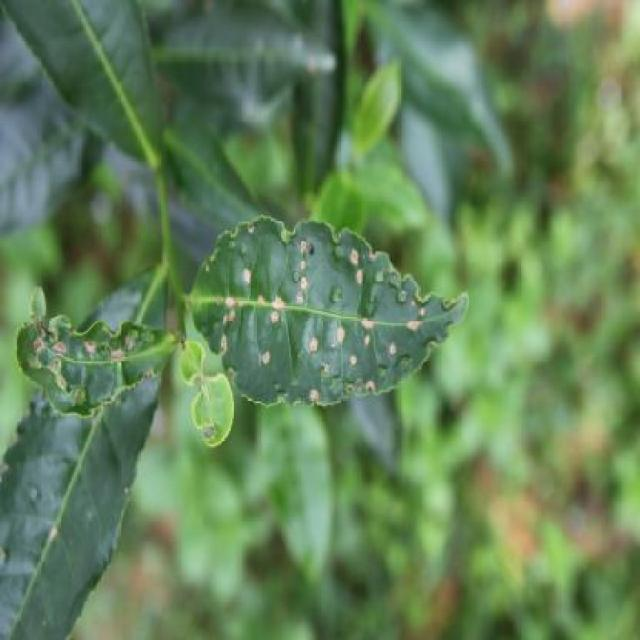Tea Mosquito bug infested leaf: (191, 212, 455, 403), (12, 298, 176, 432)
